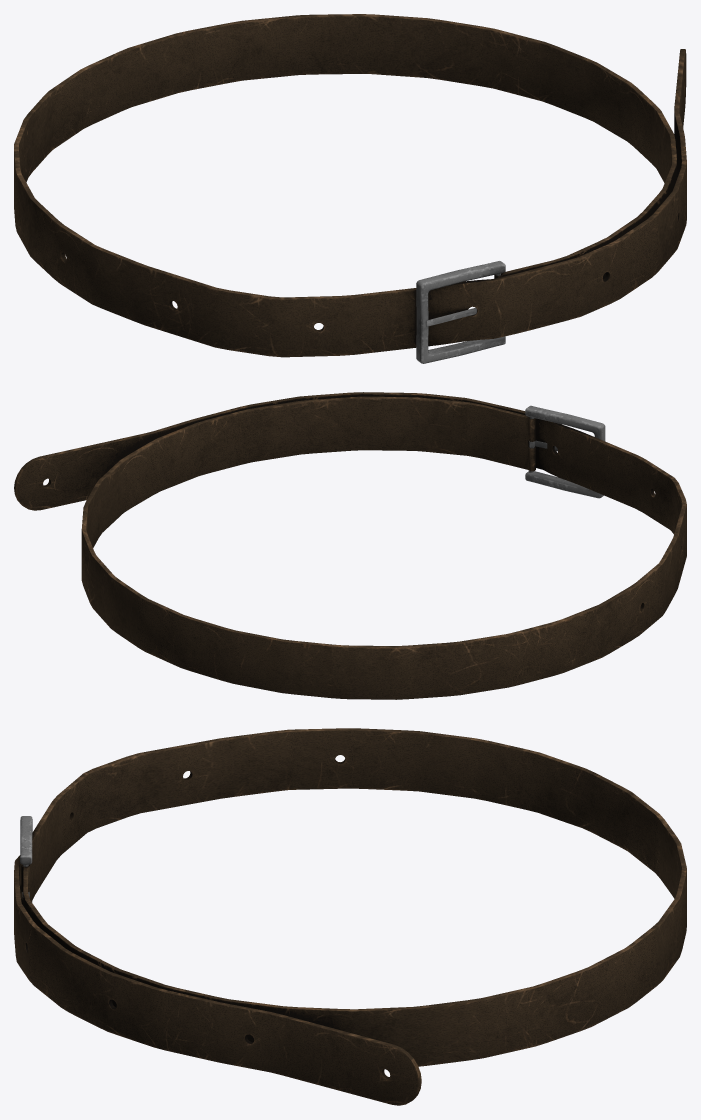
The model's file is belt.fbx.
The picture shows the model from 3 angles, top to bottom: view 1: azimuth 30°, elevation 25°; view 2: azimuth 150°, elevation 25°; view 3: azimuth 270°, elevation 25°; orthographic projection. The views are drawn at different scales.
Parts seen in each view (by area): view 1: Belt_0; view 2: Belt_0; view 3: Belt_0.
Part boxes in pixels (x1=…): Belt_0: x1=14, y1=14, x2=686, y2=363; Belt_0: x1=14, y1=392, x2=686, y2=699; Belt_0: x1=14, y1=728, x2=686, y2=1105.
Size of the model in its own units: 232 by 27.44 by 202.
